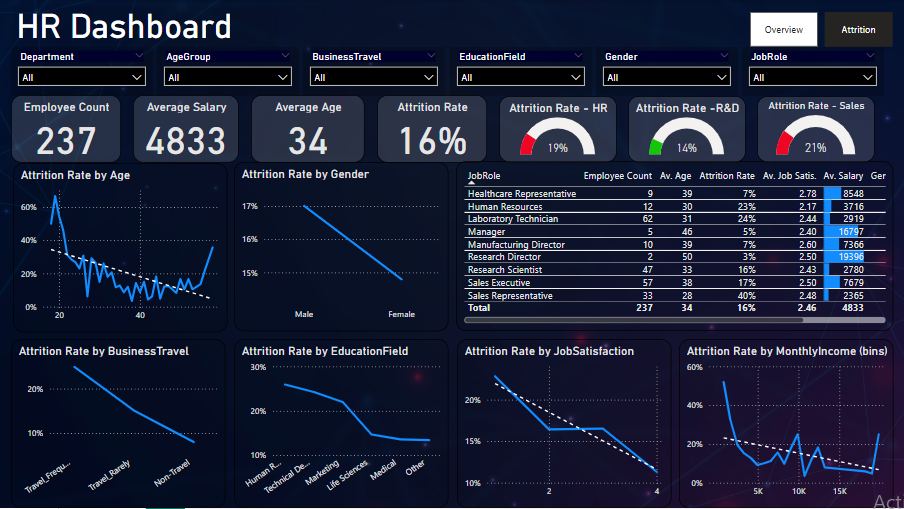

The page's visual inventory and layout, read from the dashboard file:
{"tool":"powerbi","page":{"name":"Attrition","canvas":[1280,720],"ordinal":1},"visuals":[{"type":"slicer","title":"Department","fields":{"Values":["HR_Analytics.Department"]},"box":[15.6,66.6,201.3,69.4],"z":0},{"type":"slicer","title":"Department","fields":{"Values":["HR_Analytics.AgeGroup"]},"box":[222.8,66.6,201.3,69.4],"z":1000},{"type":"slicer","title":"Department","fields":{"Values":["HR_Analytics.BusinessTravel"]},"box":[430,66.6,201.3,69.4],"z":2000},{"type":"slicer","title":"Department","fields":{"Values":["HR_Analytics.EducationField"]},"box":[637.2,66.6,201.3,69.4],"z":3000},{"type":"slicer","title":"Department","fields":{"Values":["HR_Analytics.Gender"]},"box":[844.4,66.6,201.3,69.4],"z":4000},{"type":"slicer","title":"Department","fields":{"Values":["HR_Analytics.JobRole"]},"box":[1051.7,66.6,201.3,69.4],"z":5000},{"type":"card","title":"Employee Count","fields":{"Values":["HR_Analytics.Employee Count"]},"box":[16.3,135.1,155.7,96],"z":6000},{"type":"card","title":"Average Salary","fields":{"Values":["HR_Analytics.Average Salary"]},"box":[188.9,135.1,150.3,96],"z":7000},{"type":"card","title":"Average Age","fields":{"Values":["HR_Analytics.Average Age"]},"box":[356.1,135.1,161.1,96],"z":8000},{"type":"card","title":"Attrition Rate","fields":{"Values":["HR_Analytics.Attrition Rate"]},"box":[534.1,135.1,155.7,96],"z":9000},{"type":"tableEx","fields":{"Values":["HR_Analytics.JobRole","HR_Analytics.Employee Count","HR_Analytics.Average Age","HR_Analytics.Attrition Rate","HR_Analytics.Average Job Satisfaction","HR_Analytics.Average Salary","HR_Analytics.Gender Ratio","HR_Analytics.OverTime %"]},"box":[646.6,228.2,620.3,241.4],"z":10000},{"type":"gauge","title":"Attrition Rate - HR","fields":{"Y":["HR_Analytics.Attrition Rate"]},"box":[706.7,136,166.6,94.1],"z":11000},{"type":"gauge","title":"Attrition Rate -R&D","fields":{"Y":["HR_Analytics.Attrition Rate"]},"box":[890.1,136,166.6,94.1],"z":12000},{"type":"gauge","title":"Attrition Rate - Sales","fields":{"Y":["HR_Analytics.Attrition Rate"]},"box":[1073.6,136,166.6,94.1],"z":13000},{"type":"lineChart","fields":{"Y":["HR_Analytics.Attrition Rate"],"Category":["HR_Analytics.Age"]},"box":[19,231.1,304.3,239.9],"z":14000},{"type":"lineChart","fields":{"Y":["HR_Analytics.Attrition Rate"],"Category":["HR_Analytics.BusinessTravel"]},"box":[16.1,479.8,304.3,239.9],"z":15000},{"type":"lineChart","fields":{"Y":["HR_Analytics.Attrition Rate"],"Category":["HR_Analytics.EducationField"]},"box":[331.6,479.8,304.3,239.9],"z":16000},{"type":"lineChart","fields":{"Y":["HR_Analytics.Attrition Rate"],"Category":["HR_Analytics.Gender"]},"box":[332.1,229.7,304.3,239.9],"z":17000},{"type":"lineChart","fields":{"Y":["HR_Analytics.Attrition Rate"],"Category":["HR_Analytics.JobSatisfaction"]},"box":[647.1,479.8,304.3,239.9],"z":18000},{"type":"lineChart","fields":{"Y":["HR_Analytics.Attrition Rate"],"Category":["HR_Analytics.MonthlyIncome (bins)"]},"box":[962.6,479.8,304.3,239.9],"z":19000},{"type":"pageNavigator","box":[1063.5,17.6,203.3,49.7],"z":19001},{"type":"textbox","title":"HR Dashboard","box":[18.4,8.5,375.6,58.1],"z":19003}]}

Visuals, with their boxes in screenshot pixels (x1, y1, x2, y2), scaled from the page's 1280x720 canvas onto the 904x509 screenshot:
"Department" slicer: BBox(11, 47, 153, 96)
"Department" slicer: BBox(157, 47, 300, 96)
"Department" slicer: BBox(304, 47, 446, 96)
"Department" slicer: BBox(450, 47, 592, 96)
"Department" slicer: BBox(596, 47, 739, 96)
"Department" slicer: BBox(743, 47, 885, 96)
"Employee Count" card: BBox(12, 96, 121, 163)
"Average Salary" card: BBox(133, 96, 240, 163)
"Average Age" card: BBox(251, 96, 365, 163)
"Attrition Rate" card: BBox(377, 96, 487, 163)
tableEx - HR_Analytics.JobRole x HR_Analytics.Employee Count: BBox(457, 161, 895, 332)
"Attrition Rate - HR" gauge: BBox(499, 96, 617, 163)
"Attrition Rate -R&D" gauge: BBox(629, 96, 746, 163)
"Attrition Rate - Sales" gauge: BBox(758, 96, 876, 163)
lineChart - HR_Analytics.Attrition Rate x HR_Analytics.Age: BBox(13, 163, 228, 333)
lineChart - HR_Analytics.Attrition Rate x HR_Analytics.BusinessTravel: BBox(11, 339, 226, 508)
lineChart - HR_Analytics.Attrition Rate x HR_Analytics.EducationField: BBox(234, 339, 449, 508)
lineChart - HR_Analytics.Attrition Rate x HR_Analytics.Gender: BBox(235, 162, 449, 332)
lineChart - HR_Analytics.Attrition Rate x HR_Analytics.JobSatisfaction: BBox(457, 339, 672, 508)
lineChart - HR_Analytics.Attrition Rate x HR_Analytics.MonthlyIncome (bins): BBox(680, 339, 895, 508)
pageNavigator: BBox(751, 12, 895, 48)
"HR Dashboard" textbox: BBox(13, 6, 278, 47)
